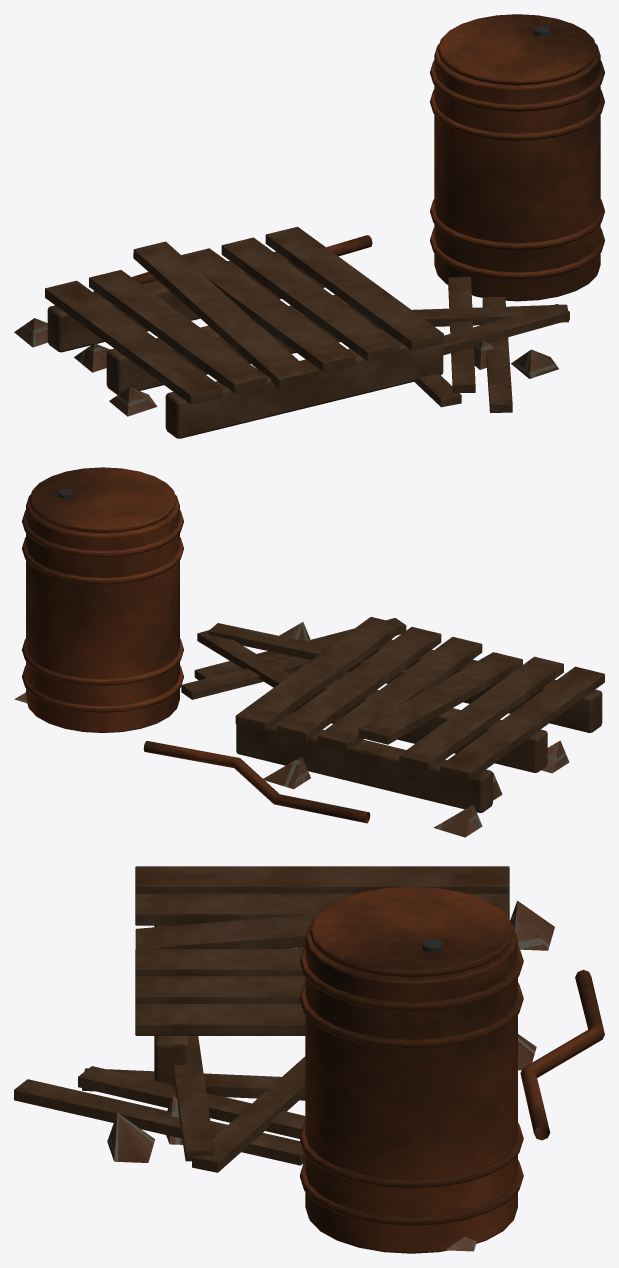
The model's file is debris_kit.glb.
3 views of the same model, one above another, from view 1: azimuth 30°, elevation 25°; view 2: azimuth 150°, elevation 25°; view 3: azimuth 270°, elevation 25° (orthographic). The views are drawn at different scales.
Parts seen in each view (by area): view 1: Rusted barrel, Pallet support, Barrel lid, Broken pallet plank.002, Broken pallet plank.001, Broken pallet plank.004, Broken pallet plank.005, Broken pallet plank, Broken pallet plank.003, Pallet support.002, Discarded timber.004, Pallet support.001 (+13 smaller); view 2: Rusted barrel, Pallet support.002, Barrel lid, Broken pallet plank.004, Broken pallet plank.005, Broken pallet plank, Broken pallet plank.001, Broken pallet plank.003, Broken pallet plank.002, Discarded bent conduit, Pallet support.001, Discarded timber.004 (+11 smaller); view 3: Rusted barrel, Barrel lid, Broken pallet plank, Broken pallet plank.001, Broken pallet plank.005, Discarded timber.001, Broken pallet plank.002, Broken pallet plank.004, Broken pallet plank.003, Discarded timber.002, Discarded timber.003, Discarded bent conduit (+9 smaller).
Boxes of the visible parts, <box> form: Rusted barrel: <box>434,43,600,301</box>; Pallet support: <box>165,338,443,438</box>; Barrel lid: <box>437,14,597,85</box>; Broken pallet plank.002: <box>133,241,311,388</box>; Broken pallet plank.001: <box>89,270,267,393</box>; Broken pallet plank.004: <box>221,237,399,361</box>; Broken pallet plank.005: <box>265,226,443,350</box>; Broken pallet plank: <box>45,280,222,404</box>; Broken pallet plank.003: <box>181,248,355,371</box>; Pallet support.002: <box>47,251,324,352</box>; Discarded timber.004: <box>443,304,569,355</box>; Pallet support.001: <box>106,295,381,394</box>; Rusted barrel: <box>26,494,179,732</box>; Pallet support.002: <box>236,719,492,812</box>; Barrel lid: <box>29,467,176,532</box>; Broken pallet plank.004: <box>276,627,441,741</box>; Broken pallet plank.005: <box>235,617,400,731</box>; Broken pallet plank: <box>440,666,604,781</box>; Broken pallet plank.001: <box>399,656,563,771</box>; Broken pallet plank.003: <box>317,637,482,751</box>; Broken pallet plank.002: <box>358,652,522,744</box>; Discarded bent conduit: <box>143,741,370,823</box>; Pallet support.001: <box>293,679,547,772</box>; Discarded timber.004: <box>208,623,406,677</box>; Rusted barrel: <box>305,923,517,1253</box>; Barrel lid: <box>309,886,513,977</box>; Broken pallet plank: <box>135,866,509,894</box>; Broken pallet plank.001: <box>135,893,509,925</box>; Broken pallet plank.005: <box>135,1004,305,1035</box>; Discarded timber.001: <box>14,1079,305,1165</box>; Broken pallet plank.002: <box>135,898,509,948</box>; Broken pallet plank.004: <box>135,976,305,1004</box>; Broken pallet plank.003: <box>135,949,303,976</box>; Discarded timber.002: <box>78,1066,305,1138</box>; Discarded timber.003: <box>192,1056,305,1172</box>; Discarded bent conduit: <box>520,969,604,1140</box>.
Size of the model in its own units: 2.25 by 0.923 by 1.72.
Materials: 4 (3 with a texture image).
